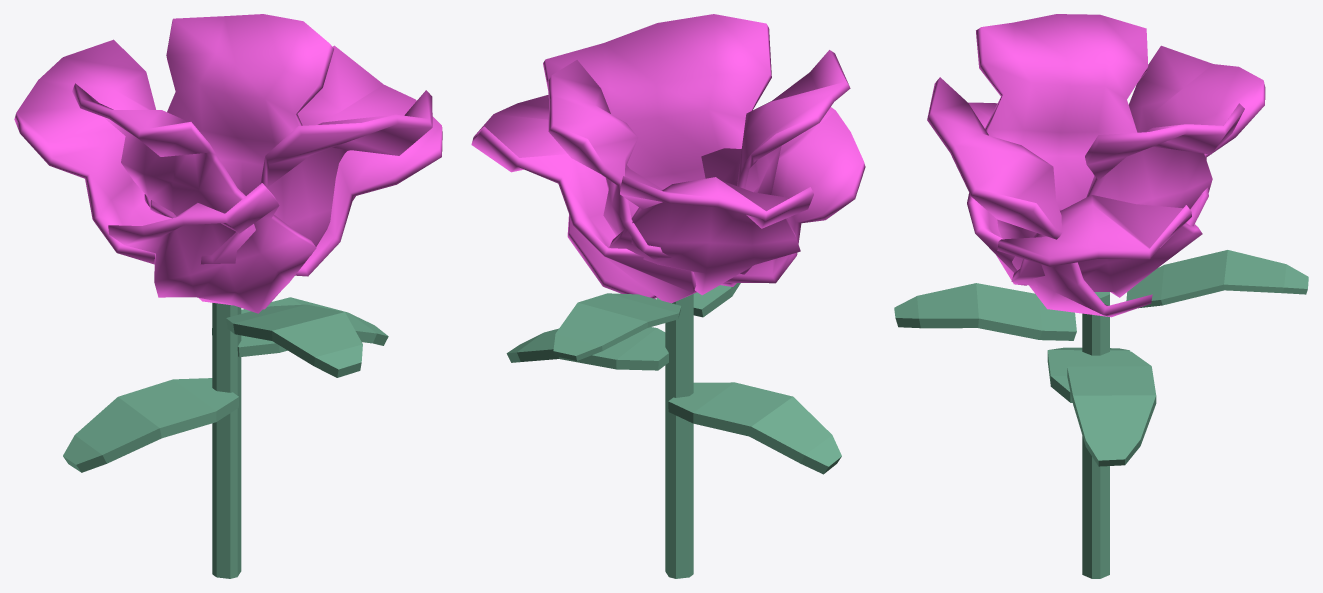
The model's file is PinkFlower.fbx.
The picture shows the model from 3 angles, left to right: view 1: azimuth 30°, elevation 25°; view 2: azimuth 150°, elevation 25°; view 3: azimuth 270°, elevation 25°; orthographic projection. The views are drawn at different scales.
Visible parts, largest first — view 1: Plane.001, Plane, Cube, Plane.008, Plane.007; view 2: Plane.001, Plane, Cube, Plane.009, Plane.007, Plane.008; view 3: Plane.001, Plane.007, Plane.008, Plane.009, Cube, Plane.
Part boxes in pixels (x1=…): Plane.001: x1=14, y1=14, x2=442, y2=313; Plane: x1=63, y1=378, x2=238, y2=472; Cube: x1=212, y1=303, x2=241, y2=578; Plane.008: x1=226, y1=304, x2=362, y2=377; Plane.007: x1=212, y1=297, x2=388, y2=357; Plane.001: x1=471, y1=14, x2=865, y2=303; Plane: x1=668, y1=382, x2=841, y2=474; Cube: x1=665, y1=294, x2=693, y2=578; Plane.009: x1=553, y1=293, x2=681, y2=360; Plane.007: x1=506, y1=327, x2=668, y2=370; Plane.008: x1=656, y1=283, x2=740, y2=317; Plane.001: x1=927, y1=14, x2=1265, y2=317; Plane.007: x1=1067, y1=351, x2=1156, y2=466; Plane.008: x1=894, y1=283, x2=1076, y2=340; Plane.009: x1=1126, y1=250, x2=1308, y2=308; Cube: x1=1082, y1=292, x2=1109, y2=578; Plane: x1=1047, y1=347, x2=1130, y2=402.
Bounding box in the file's own units: 196 × 266 × 199.
